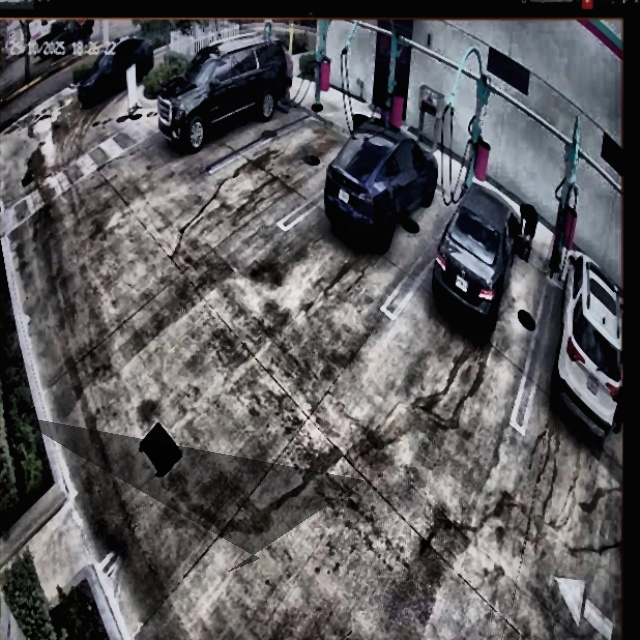Car: (326, 118, 437, 253), (432, 181, 521, 333)
